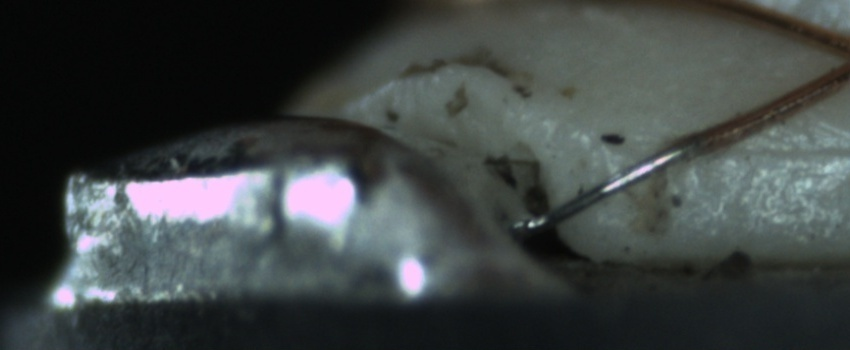DL: (704, 121, 849, 185)
TS: (522, 142, 693, 237)
